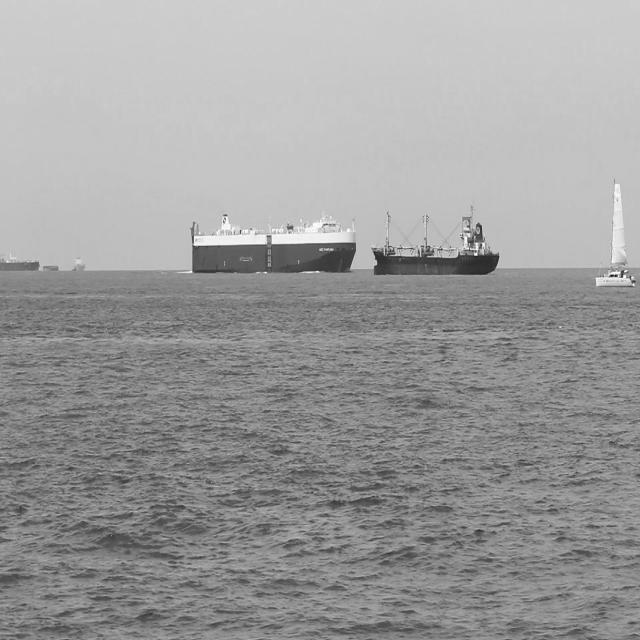boat: (592, 171, 638, 290)
ship: (188, 204, 358, 276), (367, 196, 502, 280), (0, 247, 44, 274), (69, 250, 85, 274)
